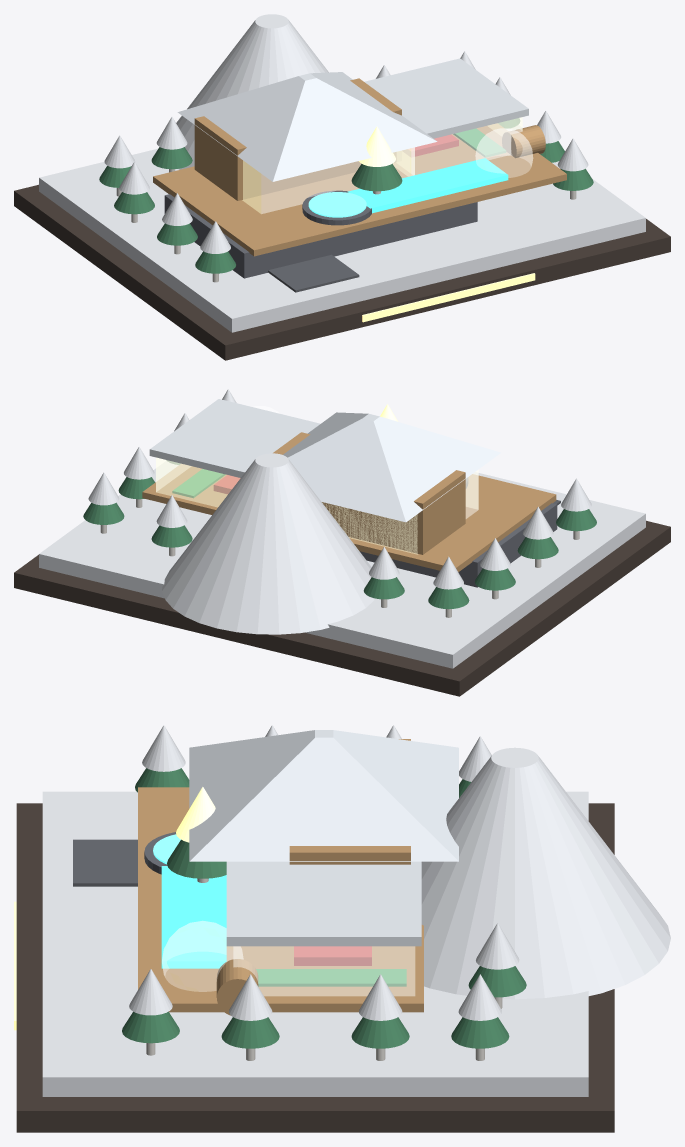
File: maqueta_03_niseko.glb
3 renders of one model, top to bottom at view 1: azimuth 30°, elevation 25°; view 2: azimuth 150°, elevation 25°; view 3: azimuth 270°, elevation 25°, orthographic. The views are drawn at different scales.
Parts seen in each view (by area): view 1: SnowTerrainBase, MaquetaPlinth, AlpineRoofMain, Chalet1FDeck, FightCampRoof, MtYoteiBackdrop, B1F_SnowBunker, ChaletTimberCore, ChaletMainGlass, FightCampWing, ThermalPool15m, GeodesicGlassIgloo (+20 smaller); view 2: SnowTerrainBase, MtYoteiBackdrop, MaquetaPlinth, AlpineRoofMain, Chalet1FDeck, FightCampRoof, ChaletTimberCore, ChaletMainGlass, FightCampWing, B1F_SnowBunker, SledTrack15m, Birch_-4.0_4.2_c1 (+15 smaller); view 3: SnowTerrainBase, MtYoteiBackdrop, MaquetaPlinth, AlpineRoofMain, FightCampRoof, Chalet1FDeck, FightCampWing, ThermalPool15m, GeodesicGlassIgloo, HeatedRamp, SledTrack15m, ChaletTimberCore (+17 smaller).
Boxes of the visible parts, x1,y1,x2,y2 form: SnowTerrainBase: [39, 125, 645, 332]; MaquetaPlinth: [14, 184, 670, 360]; AlpineRoofMain: [177, 72, 437, 181]; Chalet1FDeck: [153, 123, 566, 256]; FightCampRoof: [364, 58, 528, 138]; MtYoteiBackdrop: [176, 14, 328, 169]; B1F_SnowBunker: [164, 194, 477, 278]; ChaletTimberCore: [194, 78, 401, 200]; ChaletMainGlass: [242, 147, 414, 213]; FightCampWing: [393, 117, 522, 176]; ThermalPool15m: [347, 158, 508, 213]; GeodesicGlassIgloo: [475, 128, 533, 177]; SnowTerrainBase: [39, 461, 645, 668]; MtYoteiBackdrop: [162, 453, 375, 634]; MaquetaPlinth: [14, 520, 670, 696]; AlpineRoofMain: [283, 412, 500, 522]; Chalet1FDeck: [142, 464, 556, 571]; FightCampRoof: [149, 399, 320, 477]; ChaletTimberCore: [273, 432, 465, 554]; ChaletMainGlass: [322, 469, 478, 554]; FightCampWing: [156, 457, 240, 507]; B1F_SnowBunker: [359, 503, 557, 587]; SledTrack15m: [172, 469, 225, 498]; Birch_-4.0_4.2_c1: [363, 577, 404, 599]; SnowTerrainBase: [42, 791, 588, 1096]; MtYoteiBackdrop: [421, 747, 670, 999]; MaquetaPlinth: [16, 803, 614, 1132]; AlpineRoofMain: [189, 730, 458, 861]; FightCampRoof: [226, 861, 421, 946]; Chalet1FDeck: [138, 787, 423, 1012]; FightCampWing: [233, 946, 415, 996]; ThermalPool15m: [161, 866, 226, 968]; GeodesicGlassIgloo: [162, 921, 243, 991]; HeatedRamp: [73, 839, 137, 886]; SledTrack15m: [256, 969, 406, 986]; ChaletTimberCore: [289, 739, 410, 864].
Size of what is drawn, in the model's own units: 16.8 by 5.68 by 15.16.
